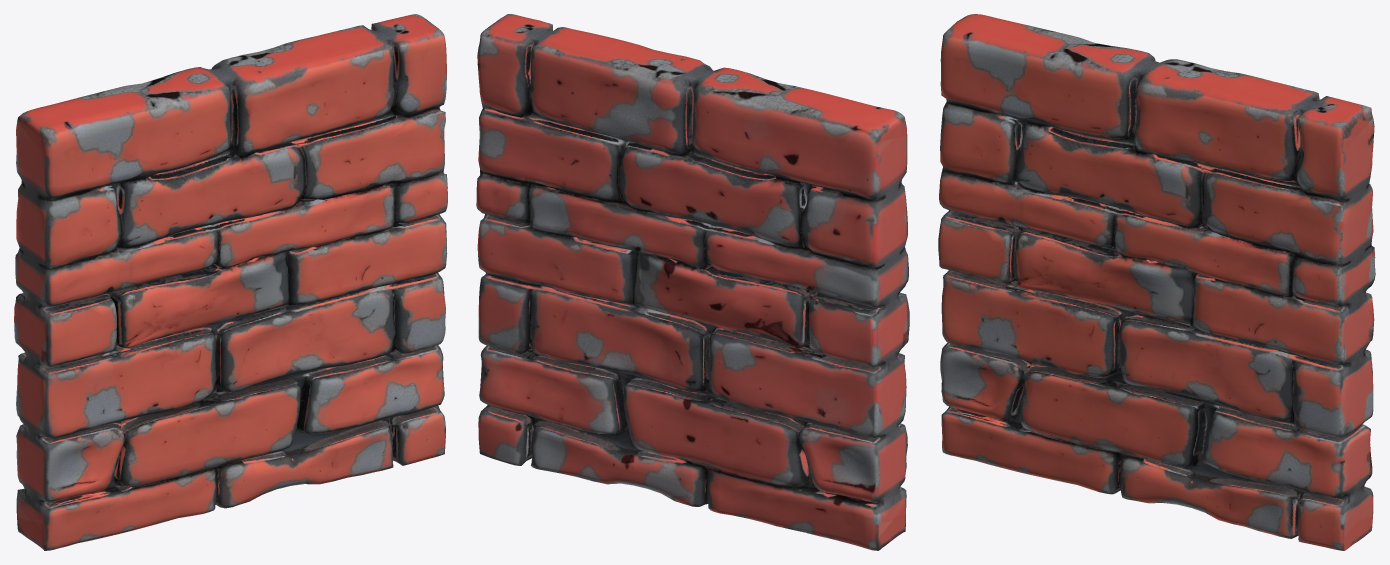
File: colorful-brick-wall.glb
3 renders of one model, left to right at view 1: azimuth 30°, elevation 25°; view 2: azimuth 150°, elevation 25°; view 3: azimuth 330°, elevation 25°, orthographic.
Parts seen in each view (by area): view 1: Mesh0; view 2: Mesh0; view 3: Mesh0.
Boxes of the visible parts, x1,y1,x2,y2 form: Mesh0: (14, 14, 447, 550); Mesh0: (476, 14, 909, 550); Mesh0: (938, 14, 1375, 550).
Bounding box in the file's own units: 1.89 × 1.91 × 0.3076.
1 material, 1 textured.
